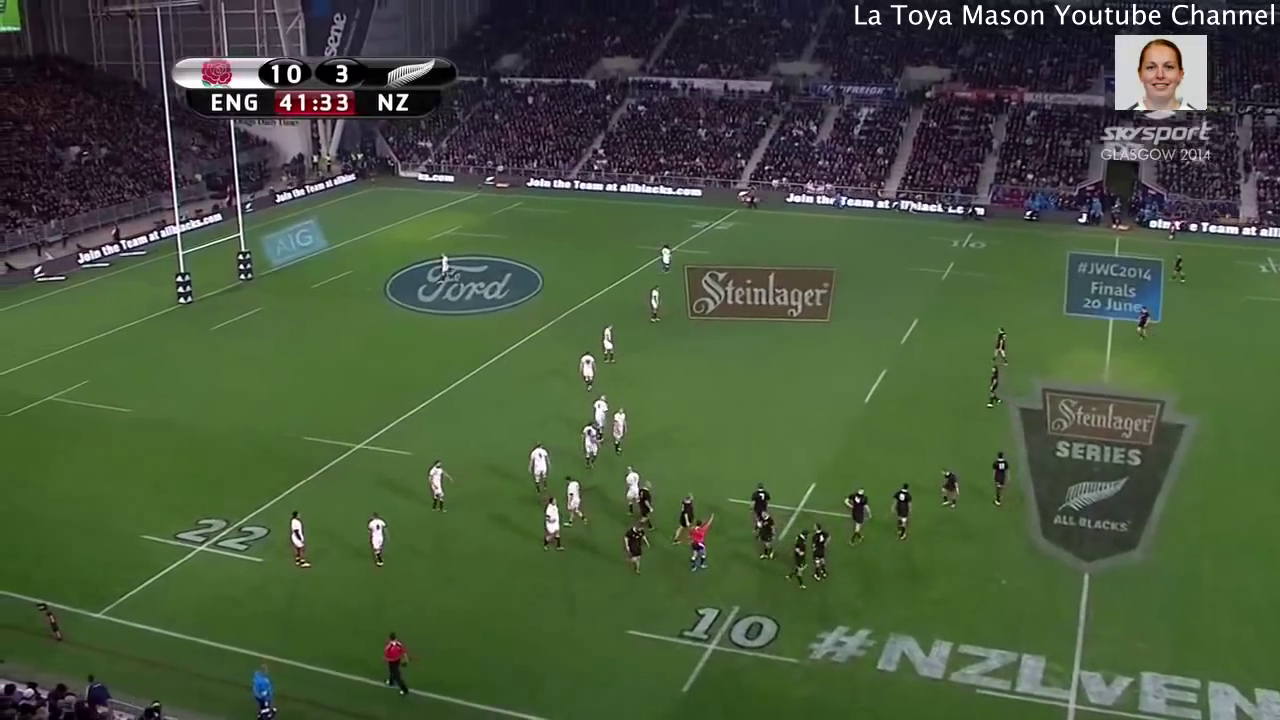10_metre: (618, 599, 805, 697), (727, 477, 857, 545), (913, 254, 991, 286), (925, 228, 1000, 257)
player: (414, 456, 461, 514), (356, 507, 393, 573), (843, 486, 877, 555), (281, 504, 316, 569), (617, 516, 650, 584), (520, 440, 555, 500), (985, 446, 1017, 507), (557, 471, 590, 529), (806, 519, 835, 584), (685, 519, 716, 578), (749, 508, 781, 563), (886, 482, 916, 540), (782, 525, 809, 588), (935, 465, 968, 516), (975, 360, 1006, 412), (538, 496, 565, 555), (670, 487, 697, 546), (605, 402, 629, 460), (634, 479, 659, 532), (987, 320, 1015, 364), (572, 348, 600, 391), (617, 460, 637, 520), (597, 320, 620, 371), (589, 389, 613, 436), (577, 419, 598, 471), (1163, 248, 1189, 289), (748, 476, 772, 514), (643, 281, 663, 324), (1133, 303, 1154, 341), (656, 240, 673, 272)
